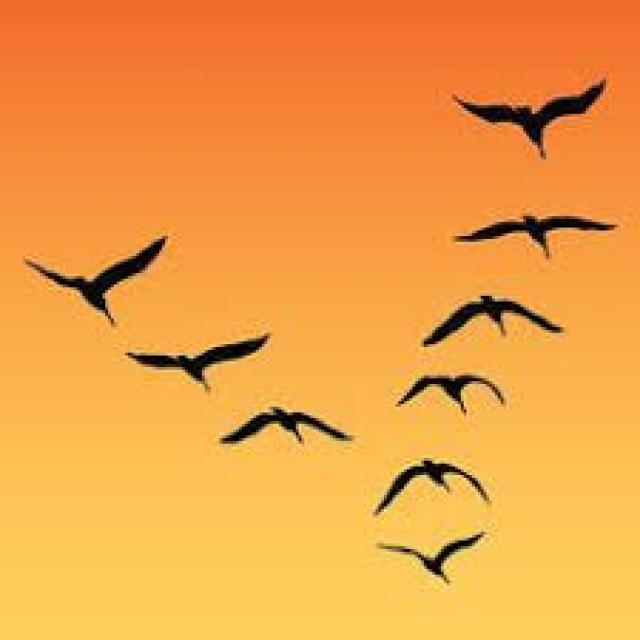bird: (21, 186, 235, 334), (424, 67, 640, 172), (121, 300, 303, 405), (429, 189, 640, 271), (392, 283, 580, 357), (382, 342, 530, 429), (368, 516, 519, 585), (218, 386, 358, 454), (360, 449, 502, 512)
